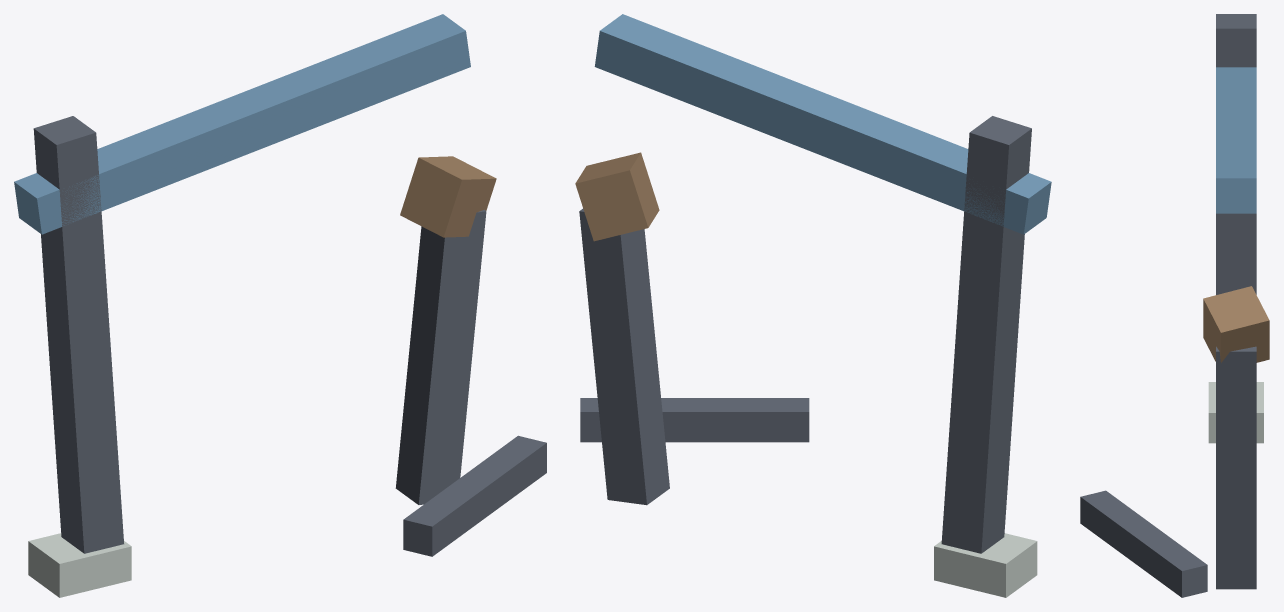
The model's file is broken_support_frame.glb.
3 renders of one model, left to right at view 1: azimuth 30°, elevation 25°; view 2: azimuth 150°, elevation 25°; view 3: azimuth 270°, elevation 25°, orthographic. The views are drawn at different scales.
Visible parts, largest first — view 1: DL010_BrokenSupportFrame_metal_dark, DL010_BrokenSupportFrame_faded_blue, DL010_BrokenSupportFrame_corrosion, DL010_BrokenSupportFrame_mineral; view 2: DL010_BrokenSupportFrame_metal_dark, DL010_BrokenSupportFrame_faded_blue, DL010_BrokenSupportFrame_corrosion, DL010_BrokenSupportFrame_mineral; view 3: DL010_BrokenSupportFrame_metal_dark, DL010_BrokenSupportFrame_faded_blue, DL010_BrokenSupportFrame_corrosion, DL010_BrokenSupportFrame_mineral.
Part boxes in pixels (x1,y1,x2,y2): DL010_BrokenSupportFrame_metal_dark: [33, 116, 546, 556]; DL010_BrokenSupportFrame_faded_blue: [14, 14, 470, 234]; DL010_BrokenSupportFrame_corrosion: [400, 156, 496, 237]; DL010_BrokenSupportFrame_mineral: [28, 533, 131, 597]; DL010_BrokenSupportFrame_metal_dark: [579, 116, 1031, 553]; DL010_BrokenSupportFrame_faded_blue: [594, 14, 1051, 234]; DL010_BrokenSupportFrame_corrosion: [575, 152, 659, 241]; DL010_BrokenSupportFrame_mineral: [934, 533, 1037, 597]; DL010_BrokenSupportFrame_metal_dark: [1080, 14, 1256, 597]; DL010_BrokenSupportFrame_faded_blue: [1216, 67, 1256, 213]; DL010_BrokenSupportFrame_corrosion: [1203, 286, 1269, 362]; DL010_BrokenSupportFrame_mineral: [1208, 382, 1263, 443].
Bounding box in the file's own units: 2.72 × 2.47 × 1.02.
